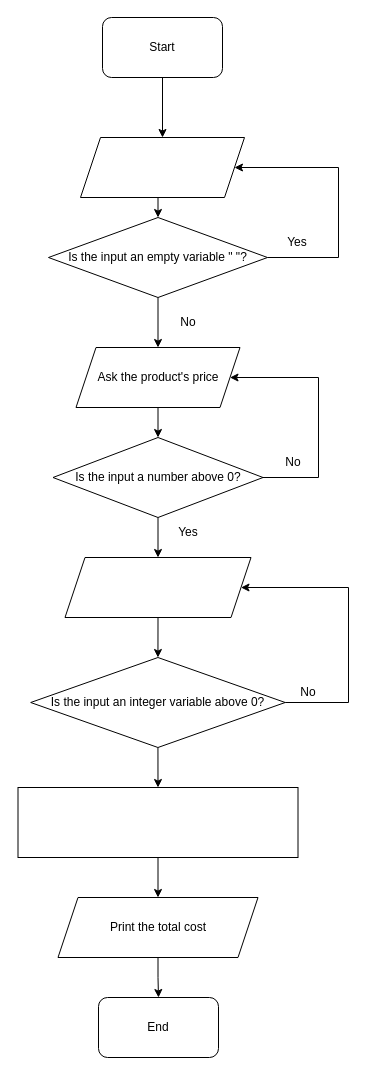
This 374x1075 diagram has some shape labels left out. The shapes that lost their labels are listed below. From the top down, each one's centre as x and y in pixels, then its label:
At (162,167): "Ask the product's name".
At (157,587): "Ask the product's quantity".
At (157,822): "totalCost = productPrice * productQuantity".
